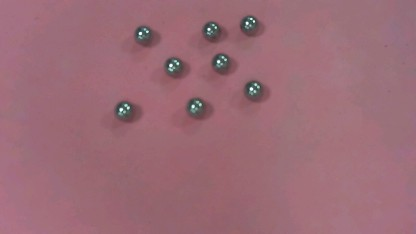ironball: (107, 95, 136, 121), (237, 10, 262, 36), (128, 22, 155, 45), (209, 51, 232, 76), (183, 95, 208, 117), (239, 77, 262, 100), (160, 52, 180, 75), (201, 18, 220, 40)
